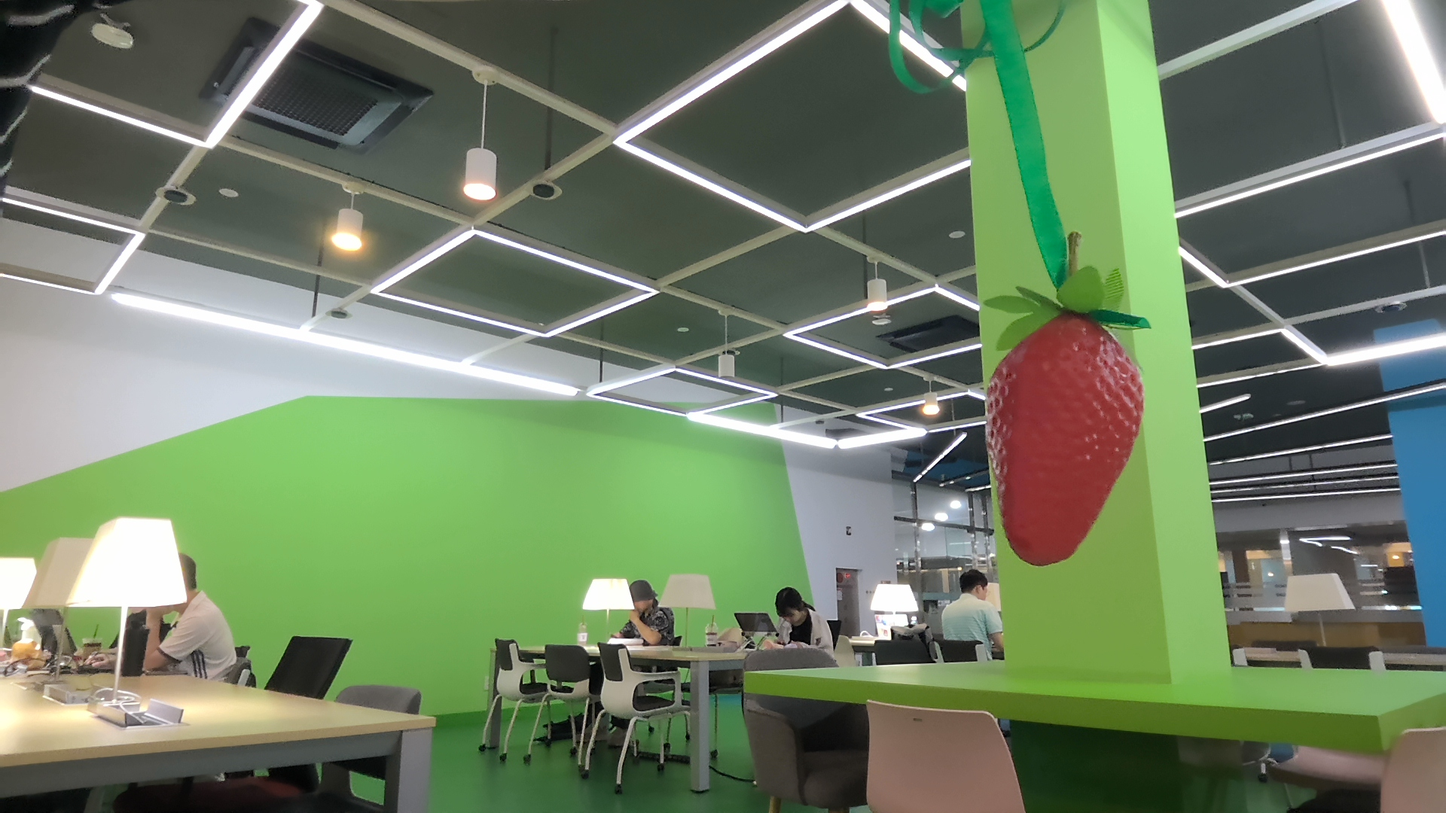strawberry: (972, 295, 1161, 568)
